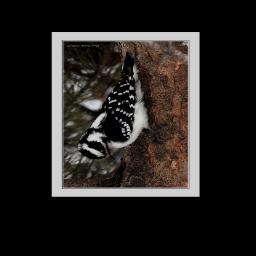Woodpecker: (77, 48, 163, 160)
